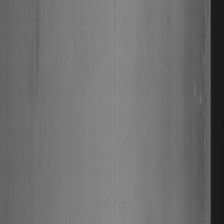silk_spot: (186, 16, 210, 142)
